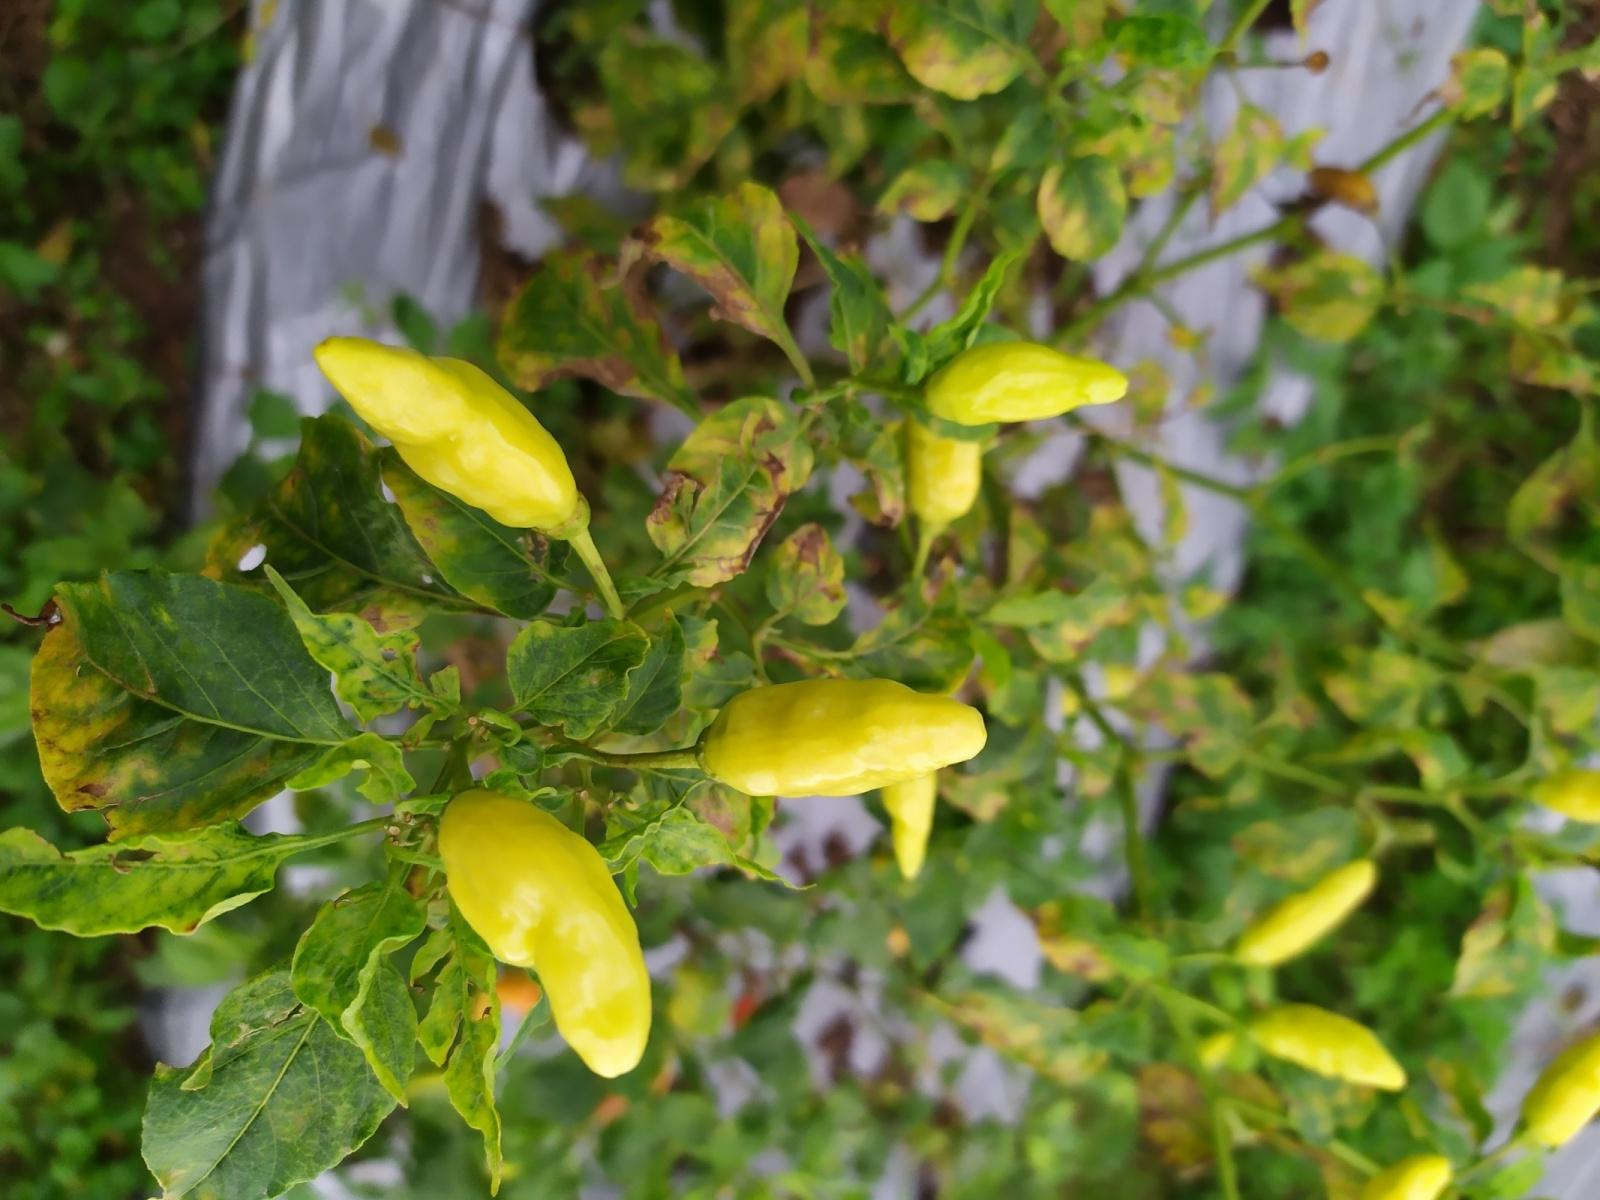cabai_normal: (437, 788, 654, 1079), (314, 337, 581, 533), (699, 676, 986, 798), (921, 340, 1130, 426), (1225, 856, 1380, 967), (1245, 1001, 1407, 1090)
